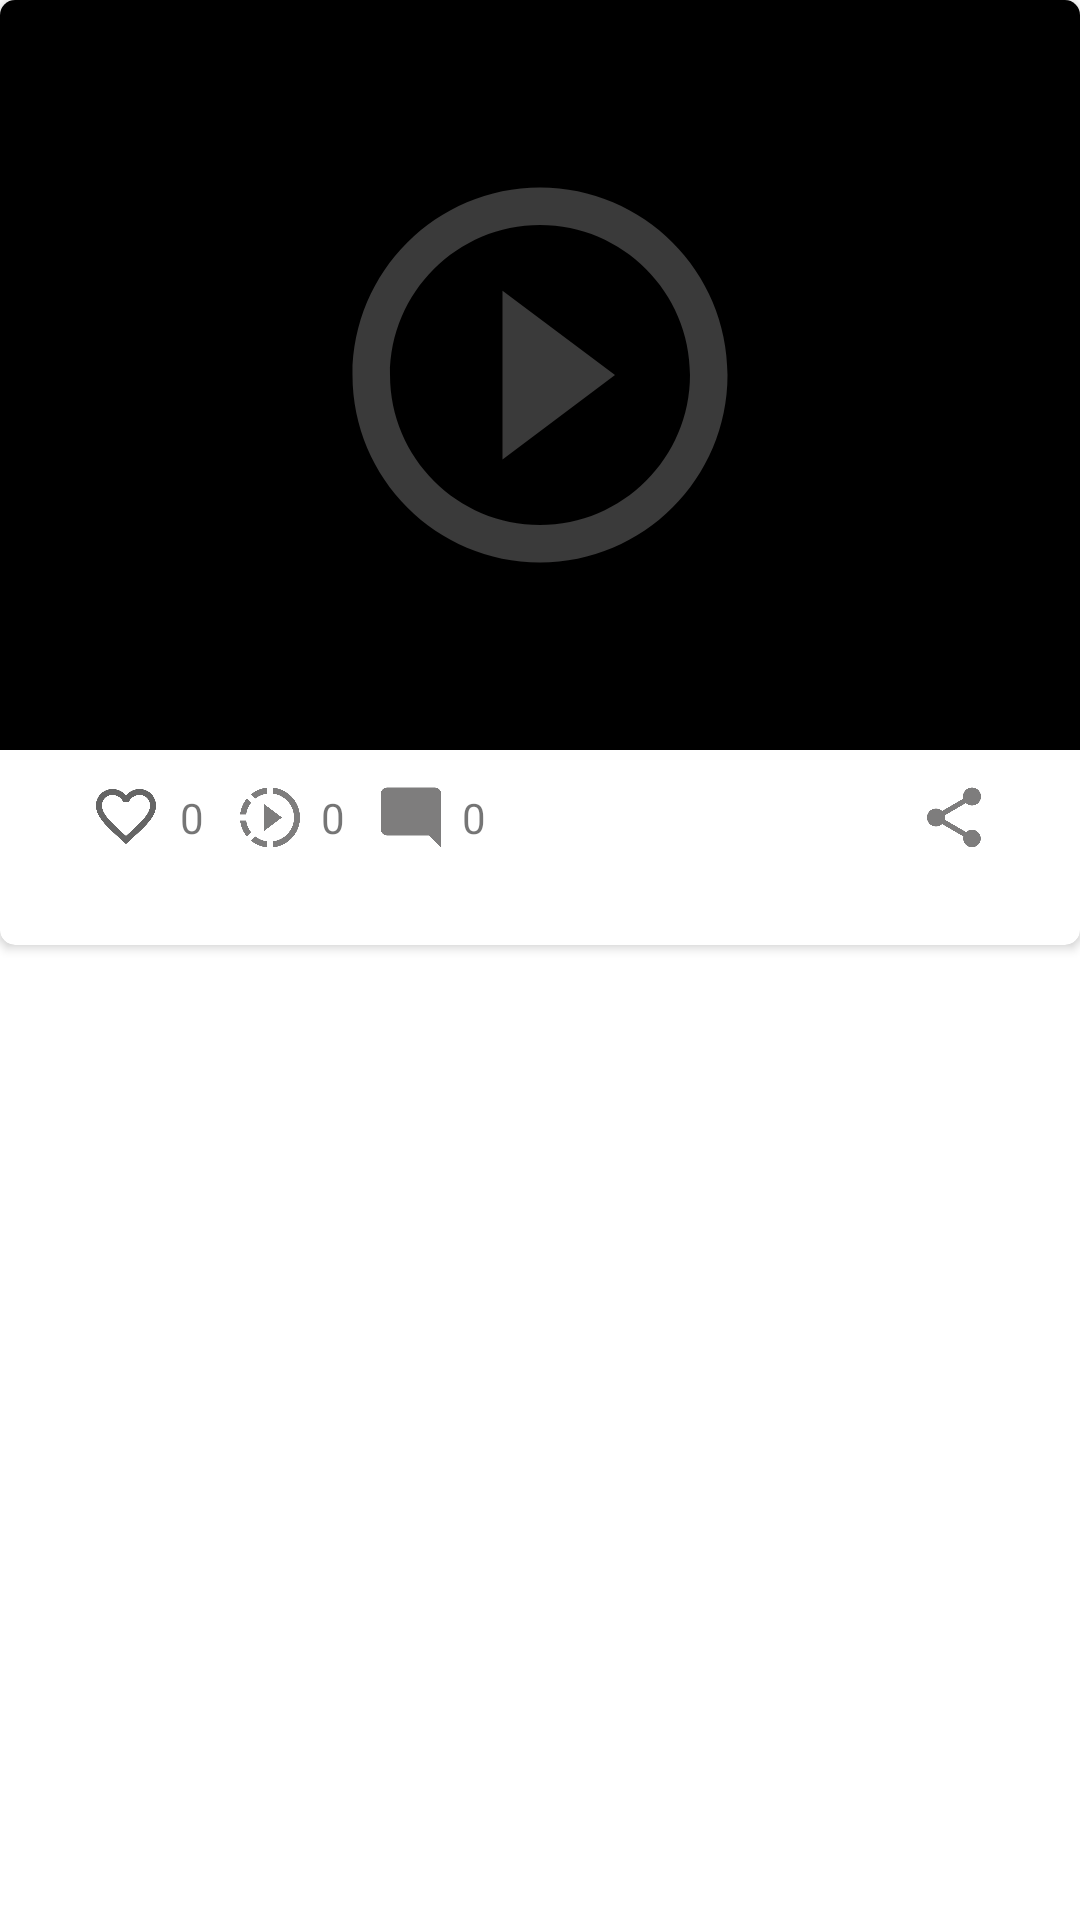

Where icons sit on this 1080w x 1920h app screen, as region(x1, y1, x2, y2):
favorite border: region(96, 789, 156, 844)
izlenmesayisi: region(240, 788, 300, 847)
mode comment: region(381, 787, 441, 847)
share: region(927, 787, 981, 847)
